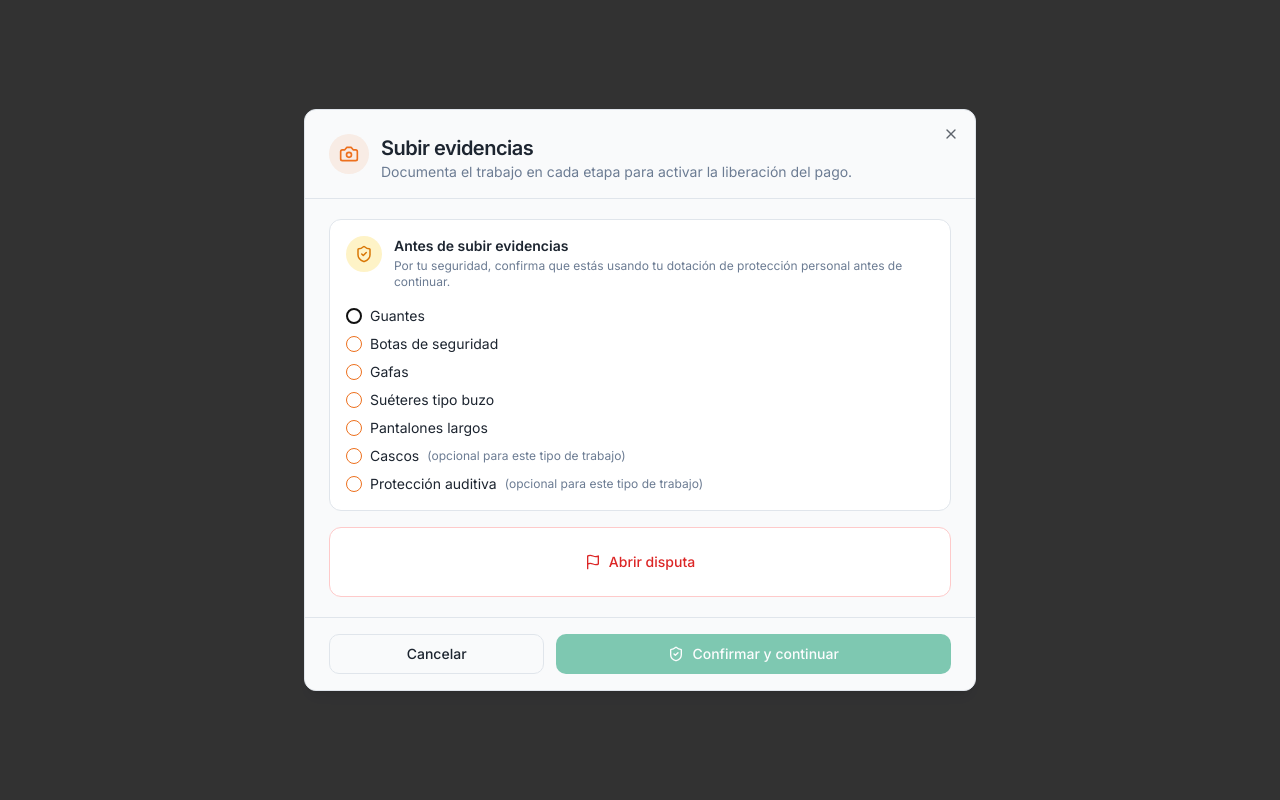
EvidenciasUploadDialog - checklist de EPP › con un tipo que no es de alto riesgo (plomería), marcar solo los básicos habilita 'Confirmar y continuar'
Check: the text "Antes de subir evidencias" is shown, box [394, 237, 568, 254]
Check: the button "Confirmar y continuar" is disabled, box [556, 634, 951, 674]
Click the checkbox next to "Guantes" at (354, 316), box [346, 308, 362, 324]
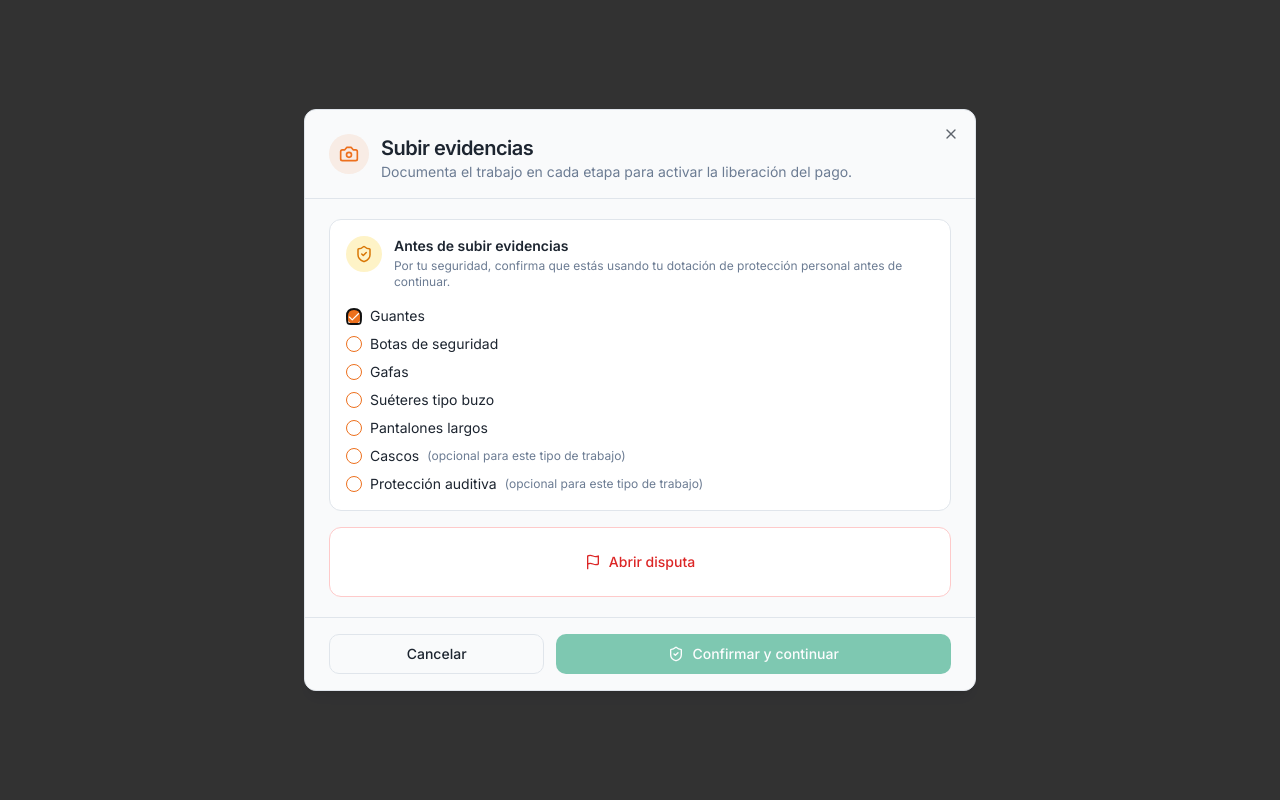
Click the checkbox next to "Botas de seguridad" at (354, 344), box [346, 336, 362, 352]
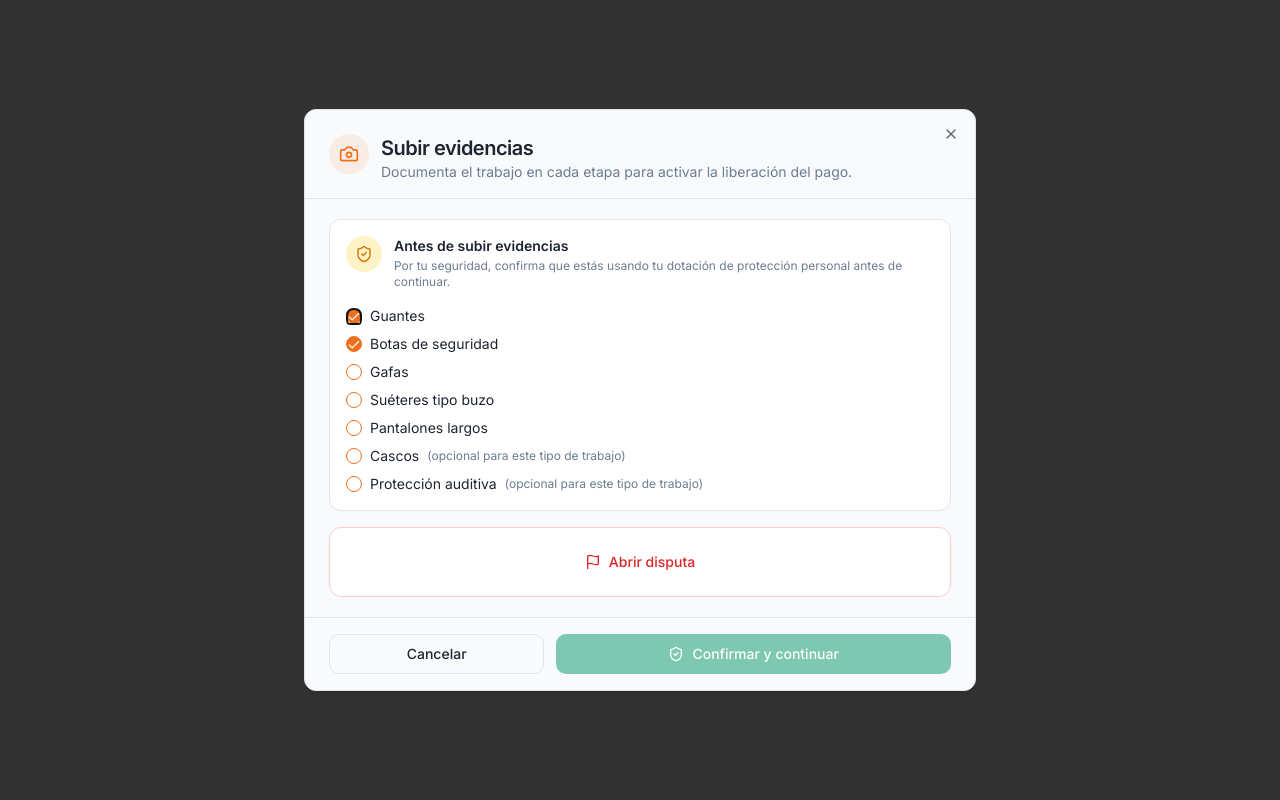
Click the checkbox next to "Gafas" at (354, 372), box [346, 364, 362, 380]
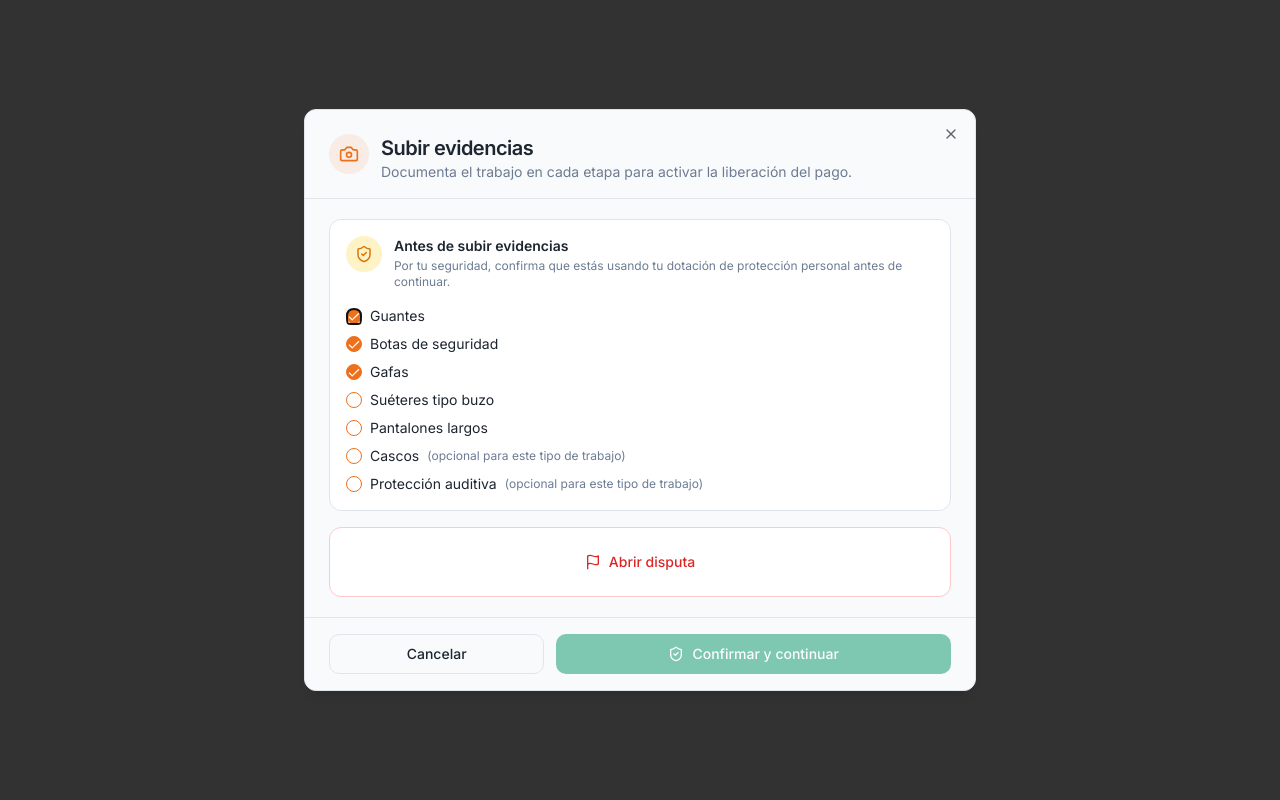
Click the checkbox next to "Suéteres tipo buzo" at (354, 400), box [346, 392, 362, 408]
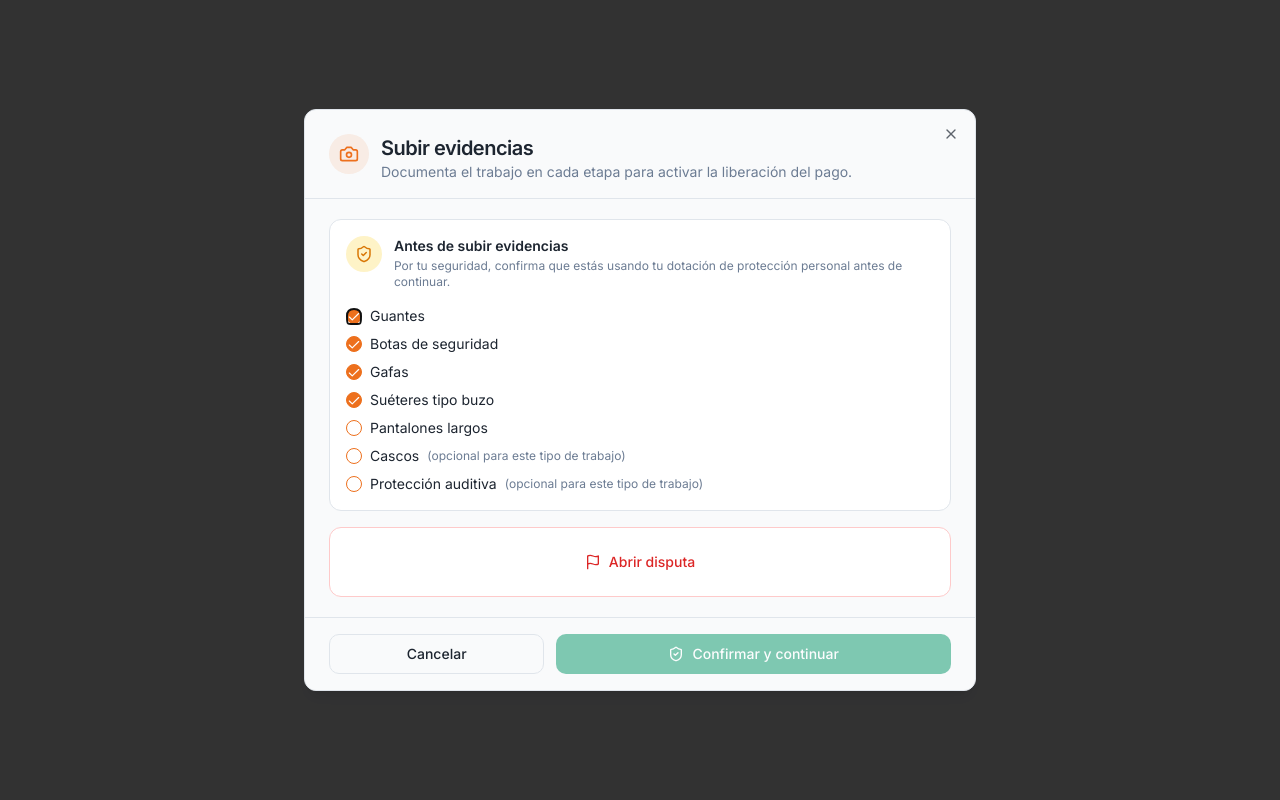
Check: the button "Confirmar y continuar" is disabled, box [556, 634, 951, 674]
Click the checkbox next to "Pantalones largos" at (354, 428), box [346, 420, 362, 436]
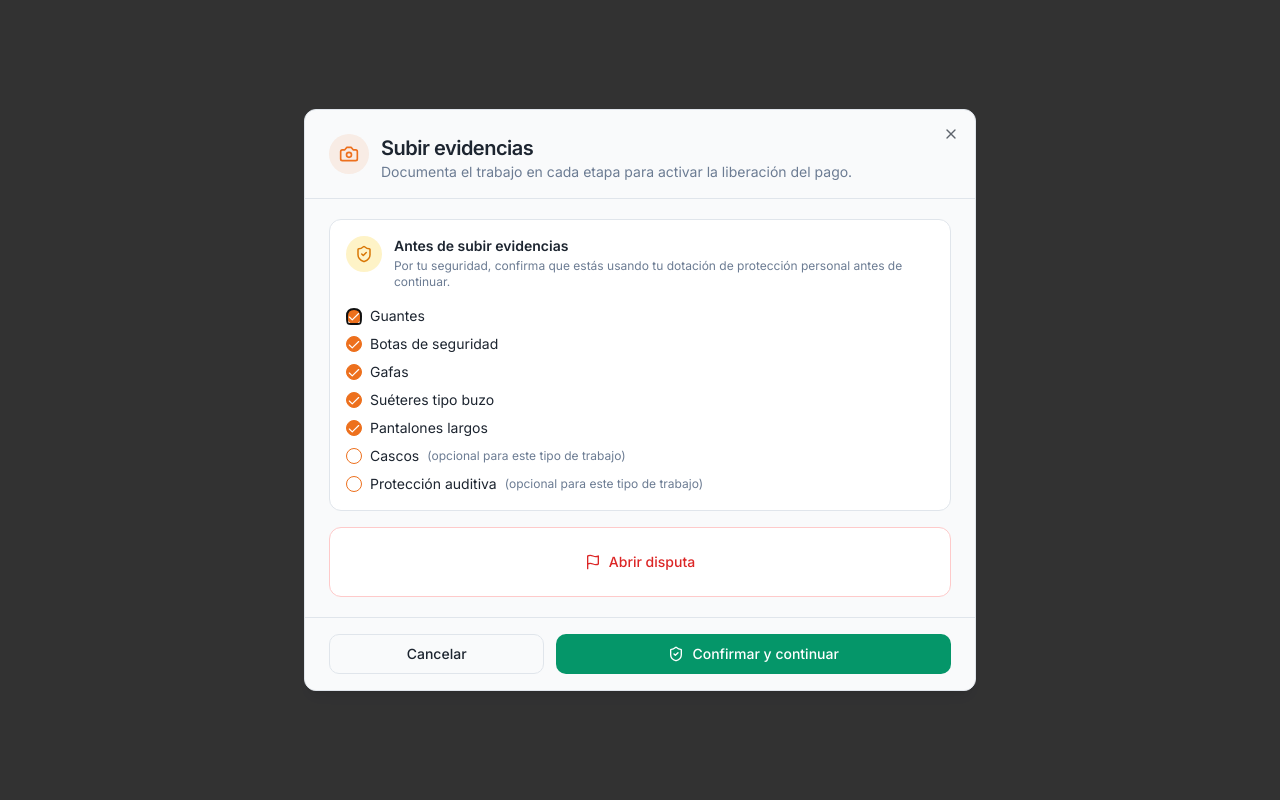
Check: the button "Confirmar y continuar" is enabled
Click the button "Confirmar y continuar" at (754, 654), box [556, 634, 951, 674]
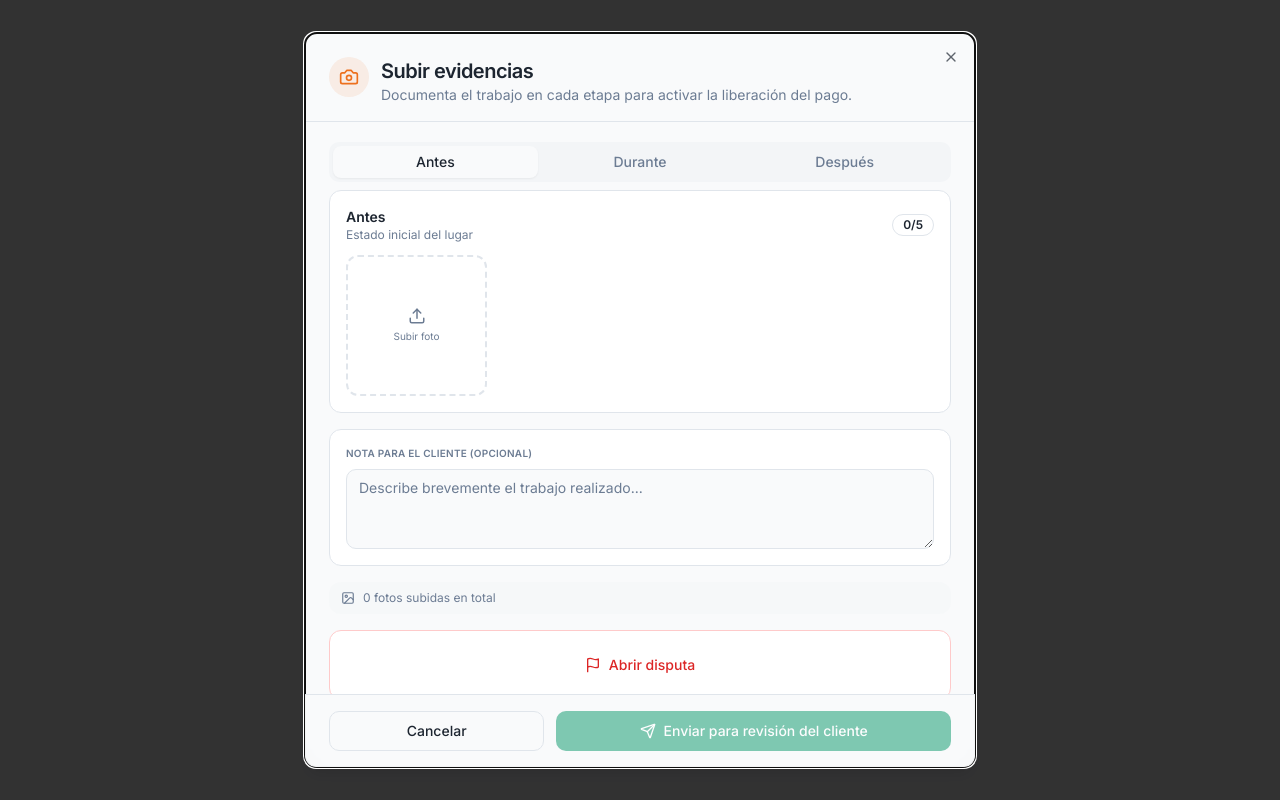
Check: the tab "Antes" is shown, box [333, 146, 538, 178]
Check: the text "Antes de subir evidencias" is gone
